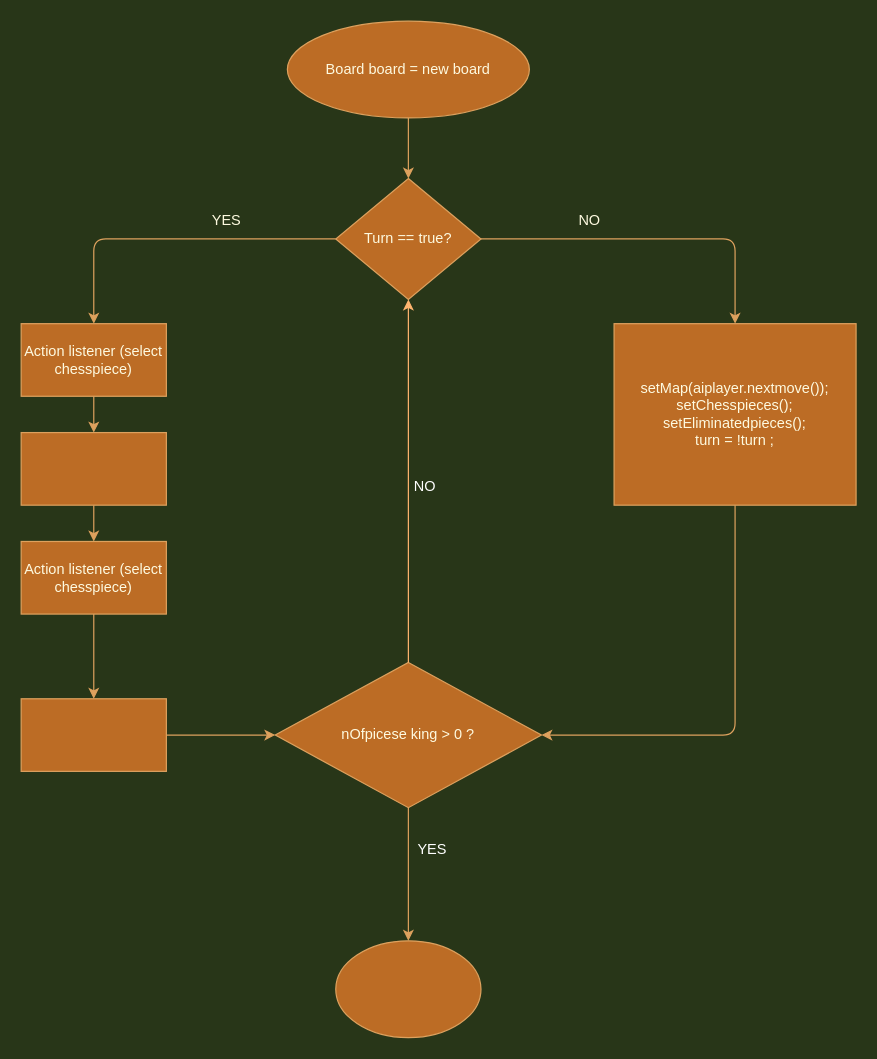
Image size: 877x1059. Some labels were removed from this diagram. Each missing label, with the centre of its shape:
"End" belongs at (408,989).
"setChesspieces();" belongs at (93,468).
"setChesspieces(); setEliminatedpieces(); turn = !turn;" belongs at (93,734).
